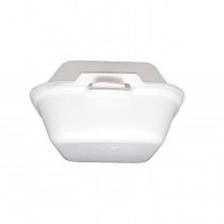foam_box: (23, 54, 190, 172)
